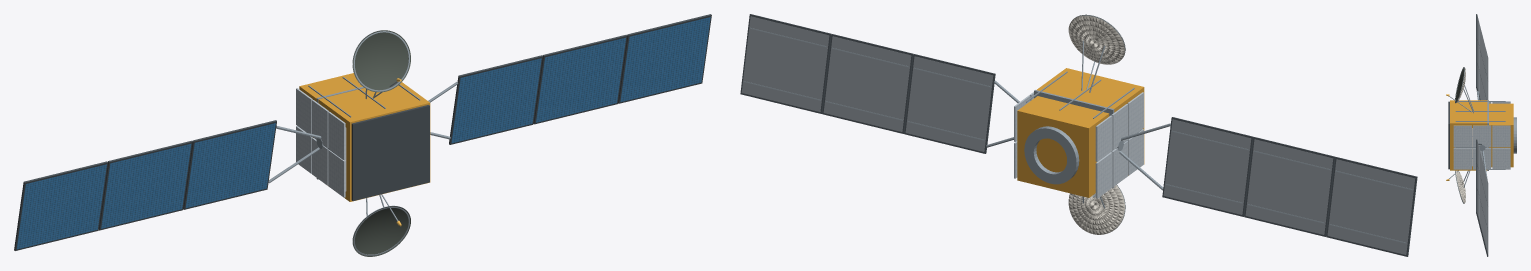
The model's file is ses-22.glb.
3 renders of one model, left to right at view 1: azimuth 30°, elevation 25°; view 2: azimuth 150°, elevation 25°; view 3: azimuth 270°, elevation 25°, orthographic. The views are drawn at different scales.
Parts seen in each view (by area): view 1: Solar cell panel (×6), Earth-facing deck, Solar panel frame (×6), Radiator bay (×6), Payload module, Reflector 2 face, Reflector 1 face, Service module, Reflector 2 edge; view 2: Rear array substrate (×6), Service module, Solar panel frame (×6), Radiator bay (×6), Payload module, Reflector 2 insulated back, Reflector 1 insulated back, Launch adapter ring, Module interface; view 3: Radiator bay (×6), Rear array substrate (×6), Payload module, Service module, Solar panel frame (×6), Reflector 1 insulated back, Reflector 2 face, Launch adapter ring, Earth-facing deck, Reflector 2 edge, Reflector 2 insulated back, Array yoke (+1 smaller).
Part boxes in pixels (box(x1,y1,x2,y2)): Solar cell panel (×6): box(16, 17, 710, 249); Earth-facing deck: box(351, 105, 429, 200); Solar panel frame (×6): box(14, 14, 711, 250); Radiator bay (×6): box(296, 88, 345, 197); Payload module: box(318, 82, 430, 201); Reflector 2 face: box(353, 30, 410, 92); Reflector 1 face: box(353, 206, 410, 256); Service module: box(299, 73, 362, 137); Reflector 2 edge: box(352, 30, 409, 91); Rear array substrate (×6): box(741, 16, 1415, 254); Service module: box(1017, 96, 1109, 197); Solar panel frame (×6): box(740, 14, 1417, 256); Radiator bay (×6): box(1095, 92, 1143, 198); Payload module: box(1037, 68, 1144, 175); Reflector 2 insulated back: box(1068, 15, 1124, 64); Reflector 1 insulated back: box(1068, 185, 1124, 234); Launch adapter ring: box(1024, 126, 1079, 184); Module interface: box(1034, 90, 1114, 188); Radiator bay (×6): box(1453, 125, 1510, 169); Rear array substrate (×6): box(1477, 15, 1488, 254); Payload module: box(1450, 100, 1487, 170); Service module: box(1489, 103, 1513, 167); Solar panel frame (×6): box(1476, 14, 1488, 256); Reflector 1 insulated back: box(1455, 170, 1465, 203); Reflector 2 face: box(1455, 67, 1464, 102); Launch adapter ring: box(1513, 117, 1516, 153); Earth-facing deck: box(1448, 101, 1449, 169); Reflector 2 edge: box(1455, 67, 1464, 102); Reflector 2 insulated back: box(1457, 68, 1465, 102); Array yoke: box(1482, 150, 1487, 179).
Size of the model in its own units: 29.96 by 9.37 by 4.53.
10 materials, 2 textured.
